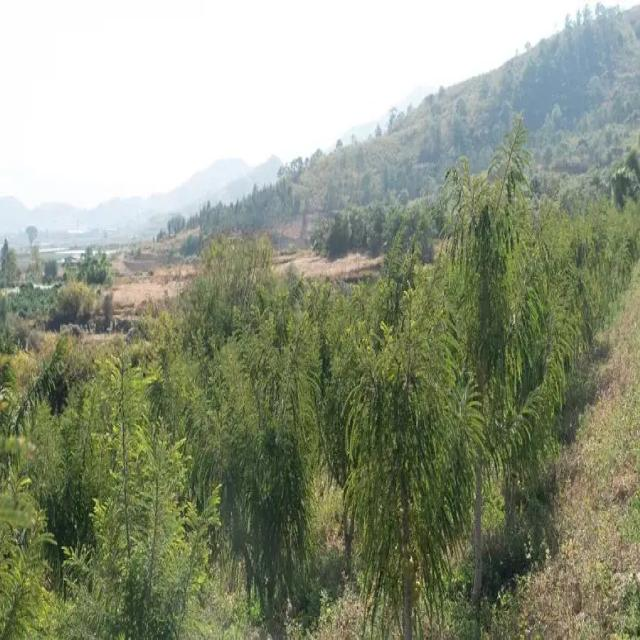ganlan: (454, 158, 563, 620), (339, 269, 461, 638), (84, 352, 214, 640), (224, 298, 323, 634)
